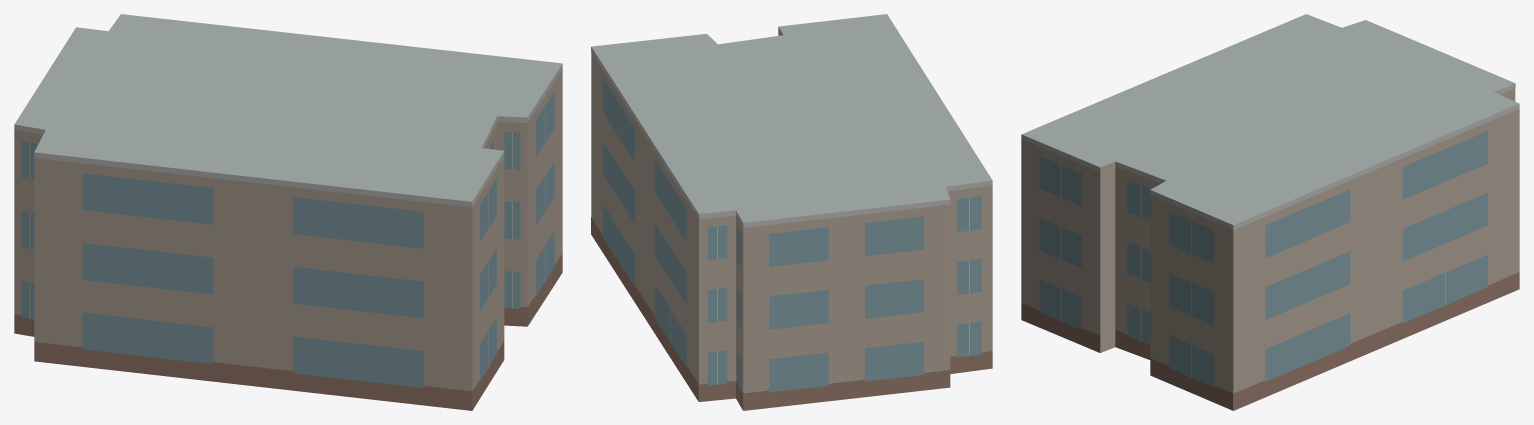
Rendered from survey-upis-32815257.glb.
The picture shows the model from 3 angles, left to right: view 1: azimuth 30°, elevation 25°; view 2: azimuth 150°, elevation 25°; view 3: azimuth 270°, elevation 25°; orthographic projection. The views are drawn at different scales.
Visible parts, largest first — view 1: survey-upis-32815257.tmp; view 2: survey-upis-32815257.tmp; view 3: survey-upis-32815257.tmp.
Part boxes in pixels (x1,y1,x2,y2): survey-upis-32815257.tmp: (14, 14, 562, 410); survey-upis-32815257.tmp: (591, 14, 992, 410); survey-upis-32815257.tmp: (1021, 14, 1519, 410).
Bounding box in the file's own units: 22.34 × 9.15 × 22.26.
